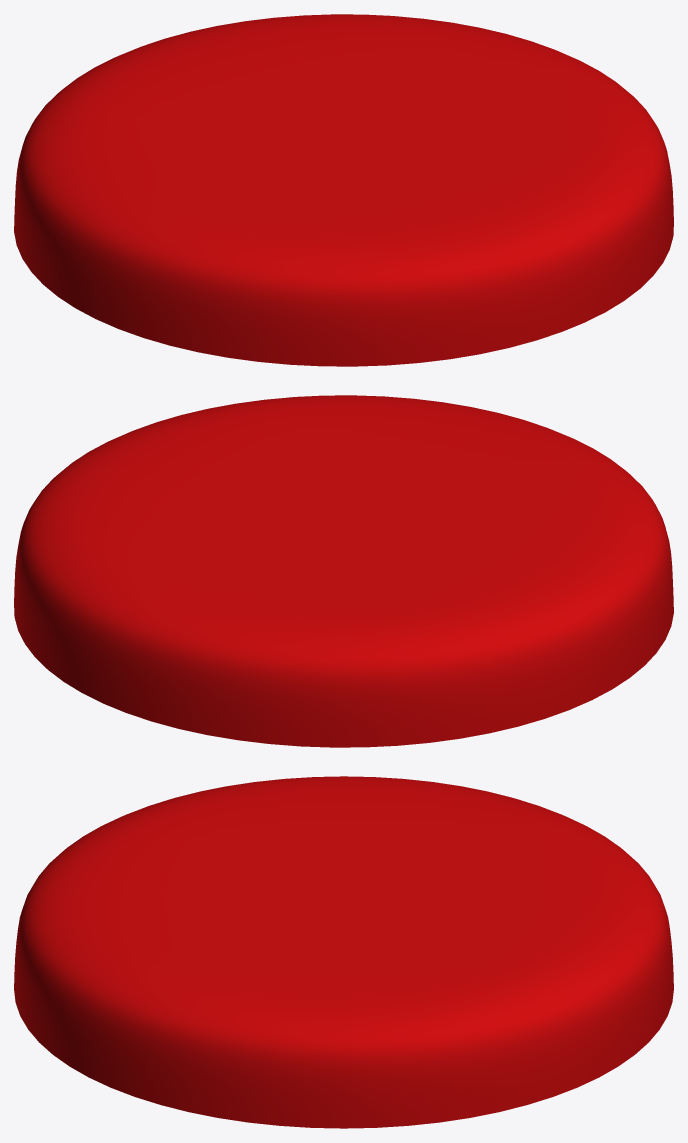
File: newb1.obj
3 views of the same model, one above another, from view 1: azimuth 30°, elevation 25°; view 2: azimuth 150°, elevation 25°; view 3: azimuth 270°, elevation 25° (orthographic).
Parts seen in each view (by area): view 1: button1; view 2: button1; view 3: button1.
Part boxes in pixels (x1,y1,x2,y2): button1: [14, 14, 673, 366]; button1: [14, 395, 673, 747]; button1: [14, 776, 673, 1128].
Size of the model in its own units: 0.0316 by 0.00502 by 0.0316.
